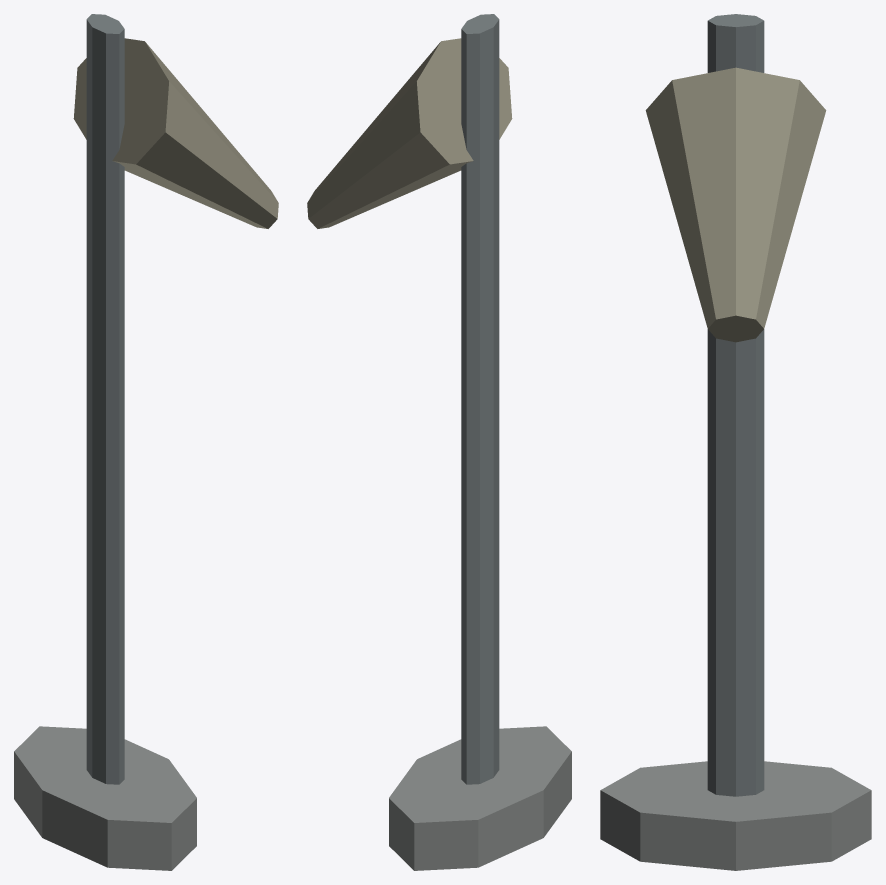
The model's file is wind_pole.glb.
3 views of the same model, side by side, from view 1: azimuth 30°, elevation 25°; view 2: azimuth 150°, elevation 25°; view 3: azimuth 270°, elevation 25° (orthographic). The views are drawn at different scales.
Parts seen in each view (by area): view 1: wind_pole; view 2: wind_pole; view 3: wind_pole.
Part boxes in pixels (left/top/right/bottom): wind_pole: left=14, top=14, right=278, bottom=870; wind_pole: left=307, top=14, right=571, bottom=870; wind_pole: left=600, top=14, right=871, bottom=870.
Bounding box in the file's own units: 0.96 × 3.2 × 0.96.
